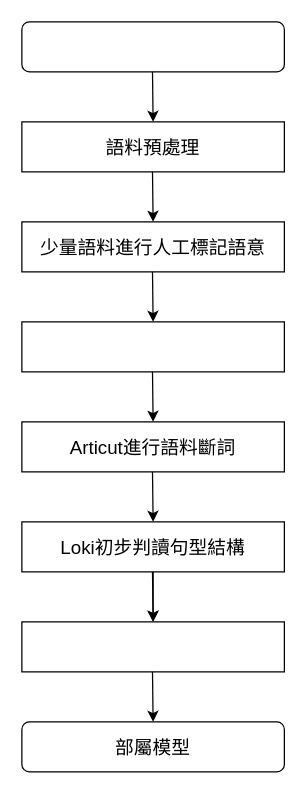
The diagram is 306 pixels wide and 794 high, and some of its shapes have lost their labels. Here are the shapes that lost their labels. From the top down, the box of each, then its label:
(21, 21, 284, 72): 收集訓練及測試語料
(21, 321, 284, 372): 歸類相同語意句子
(21, 621, 284, 672): 調整以掌握句型中的關鍵要素
